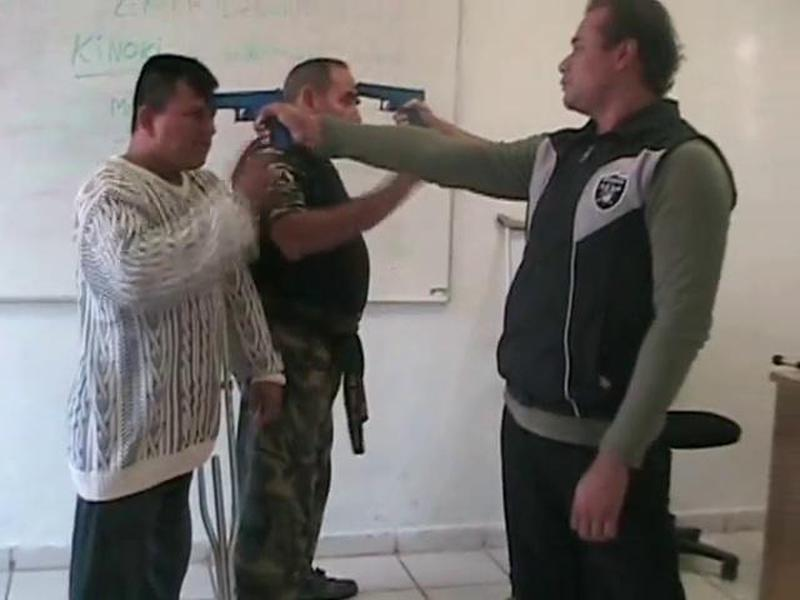Pistola: (198, 74, 308, 164), (345, 71, 437, 142)
